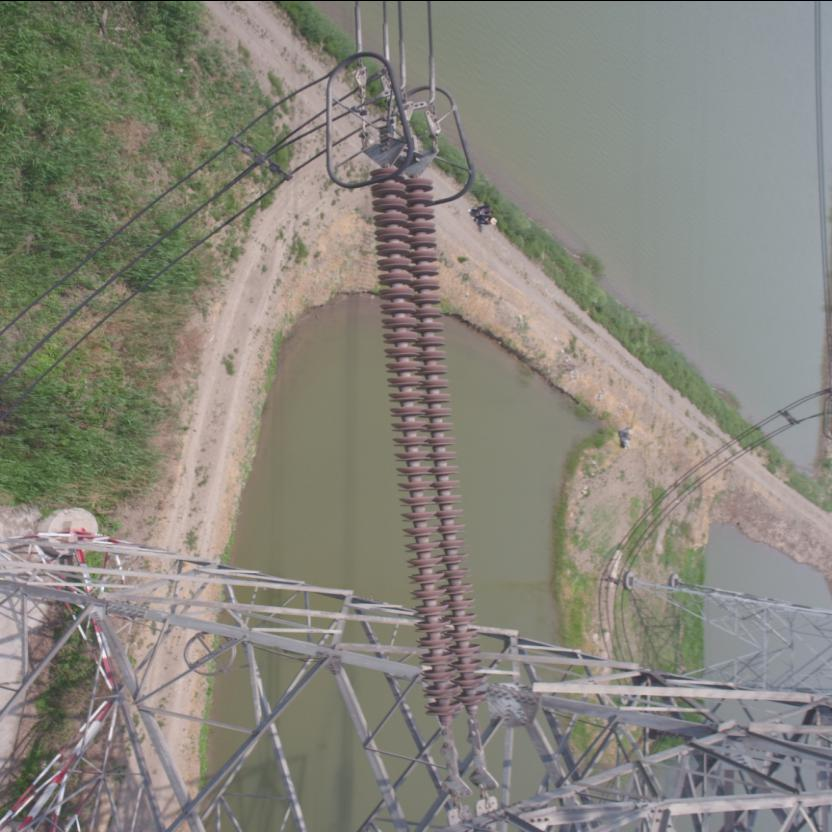insulator: (366, 151, 490, 749)
